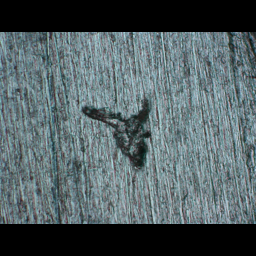d: (78, 94, 154, 171)
